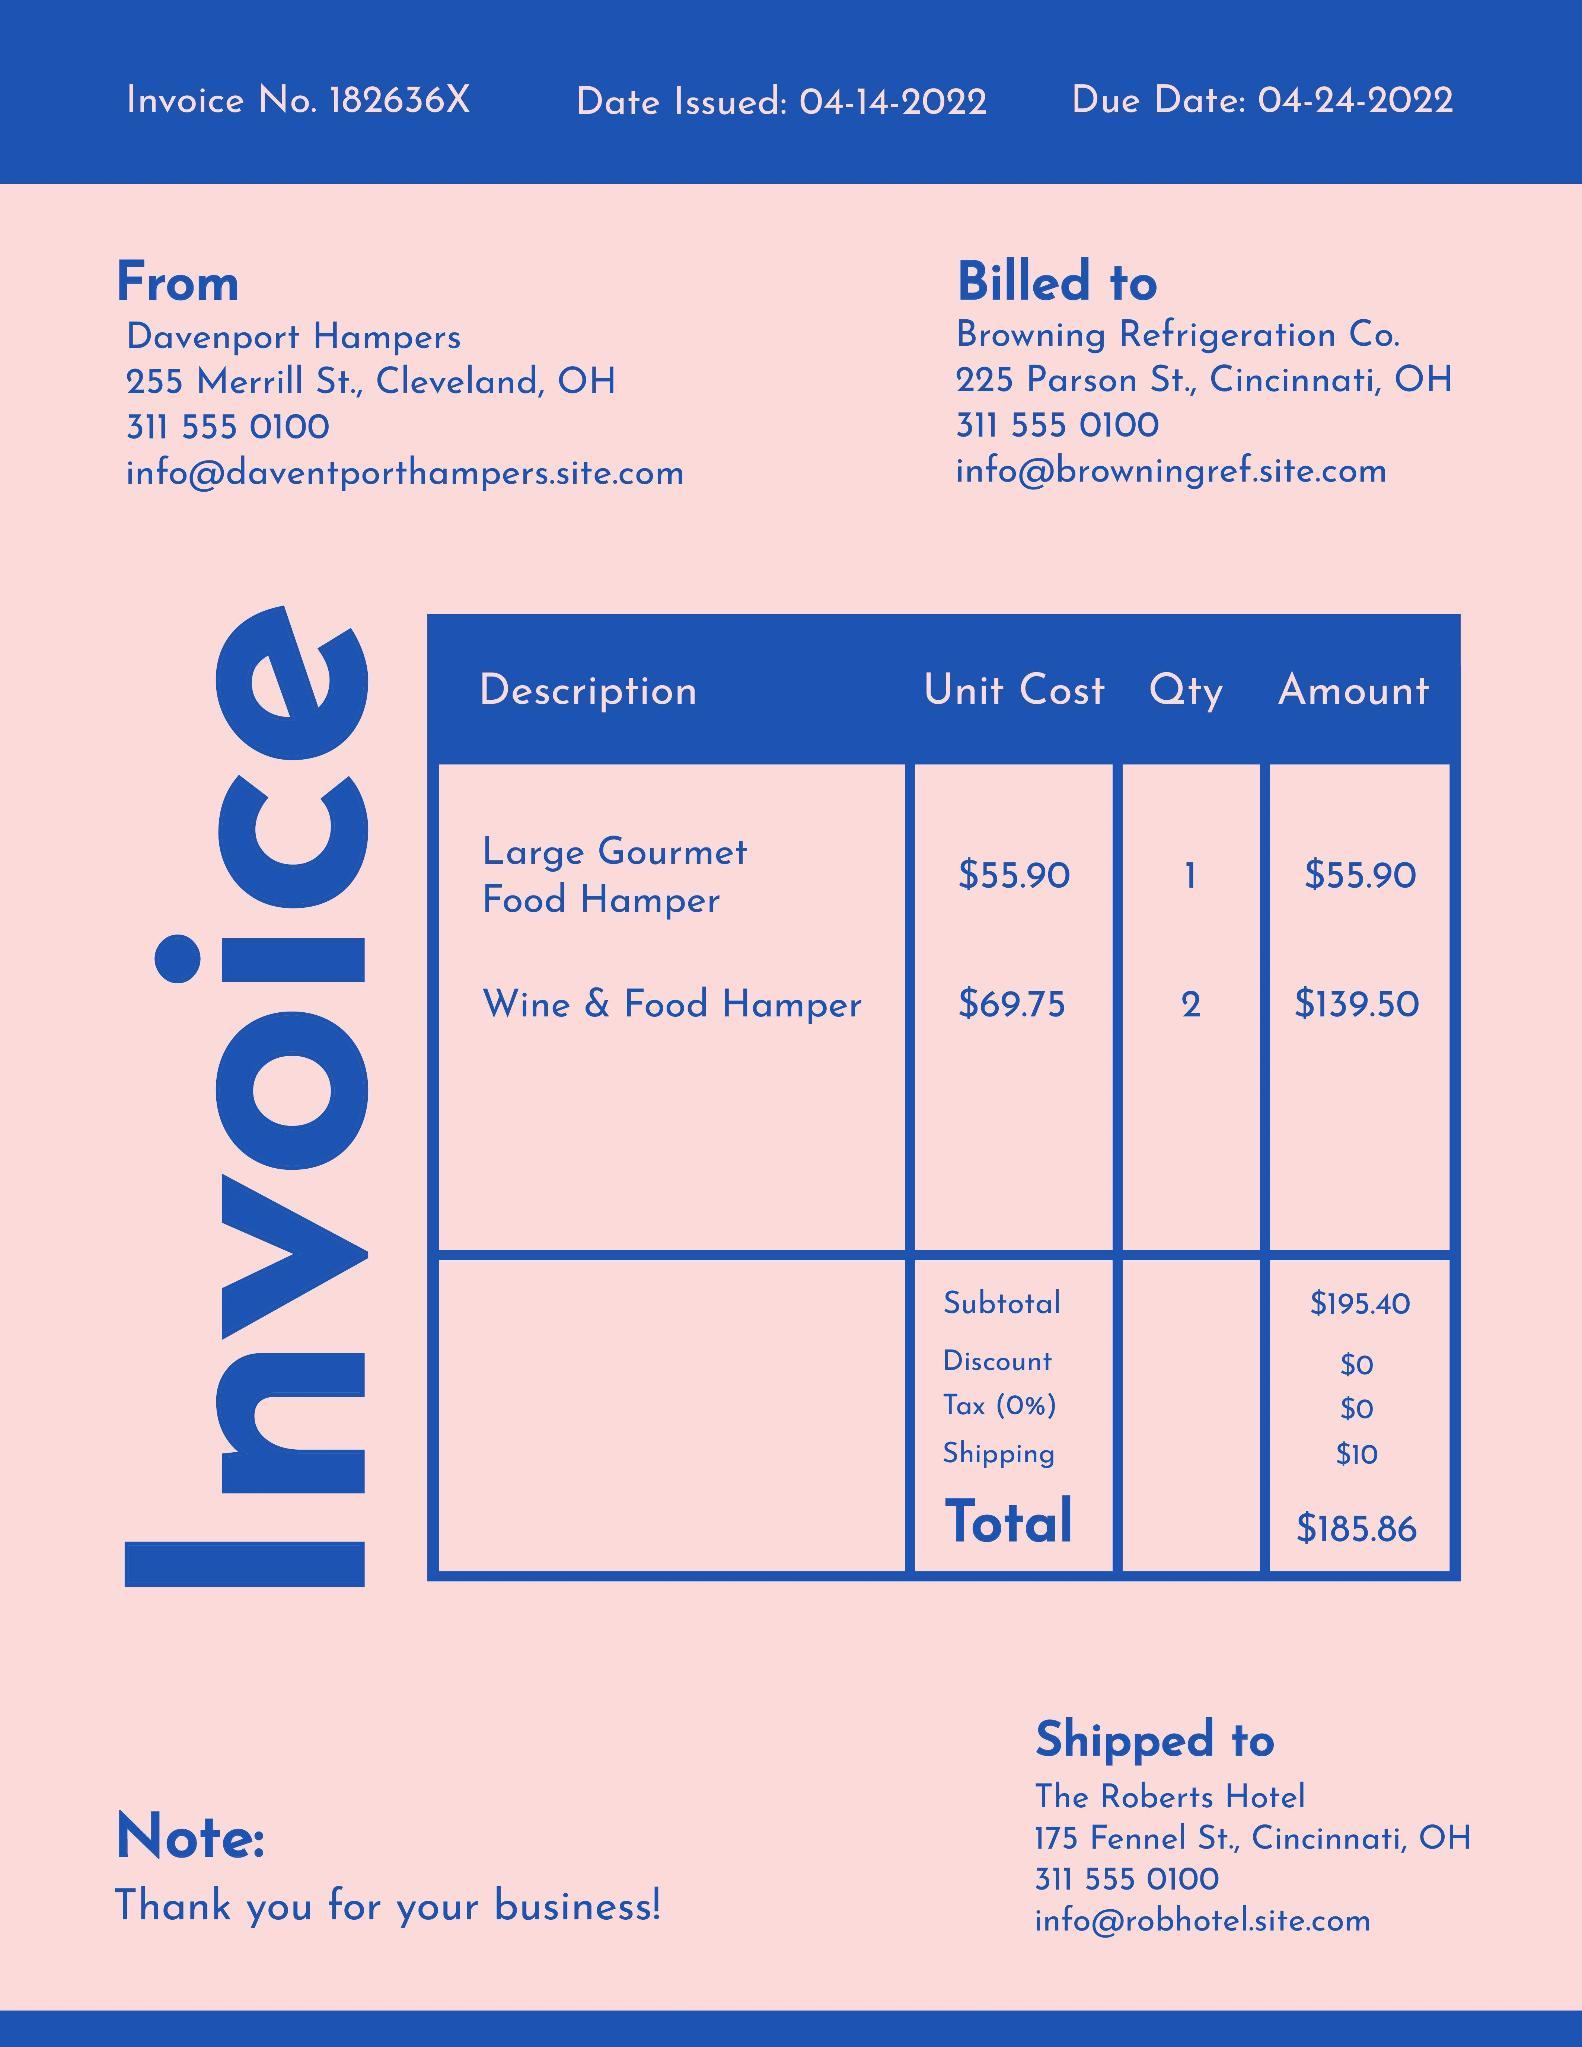ROI: (430, 608, 1499, 1098), (114, 575, 417, 1627), (73, 237, 760, 512), (896, 1257, 1467, 1578), (903, 222, 1474, 535), (992, 1674, 1491, 1952), (106, 1759, 695, 1959), (549, 43, 1007, 152), (87, 43, 496, 140), (1063, 50, 1481, 137)
